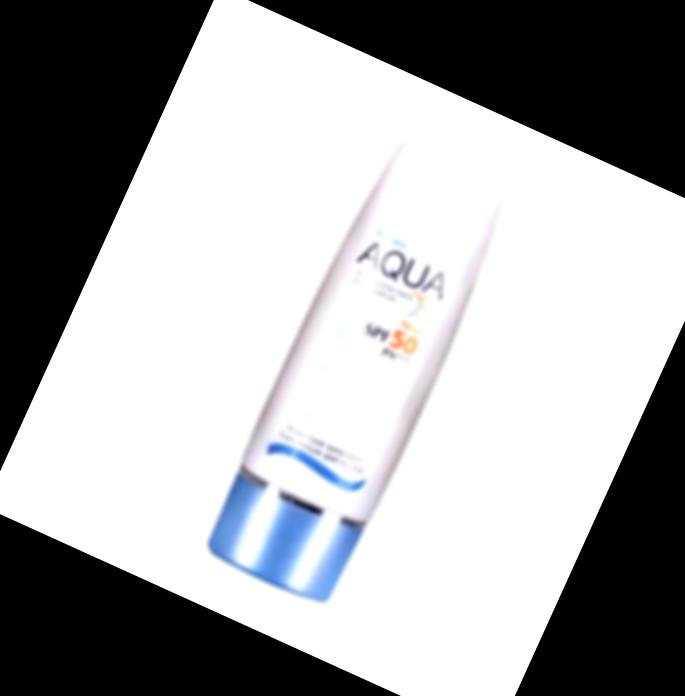cosmetic: (199, 122, 526, 611)
